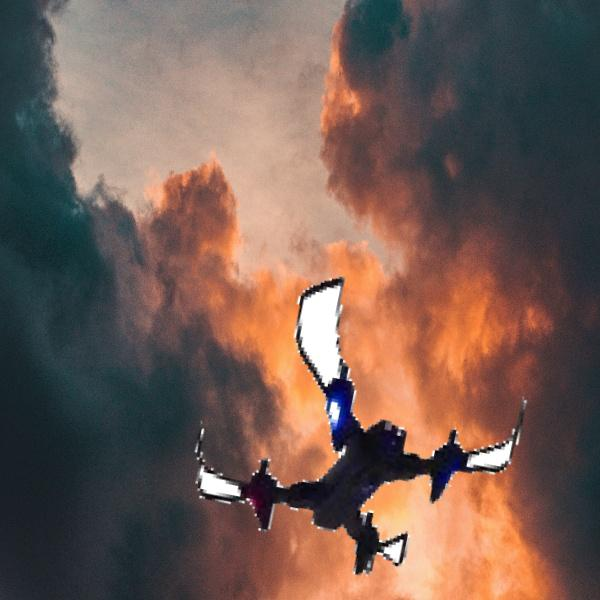drone: (198, 251, 536, 589)
